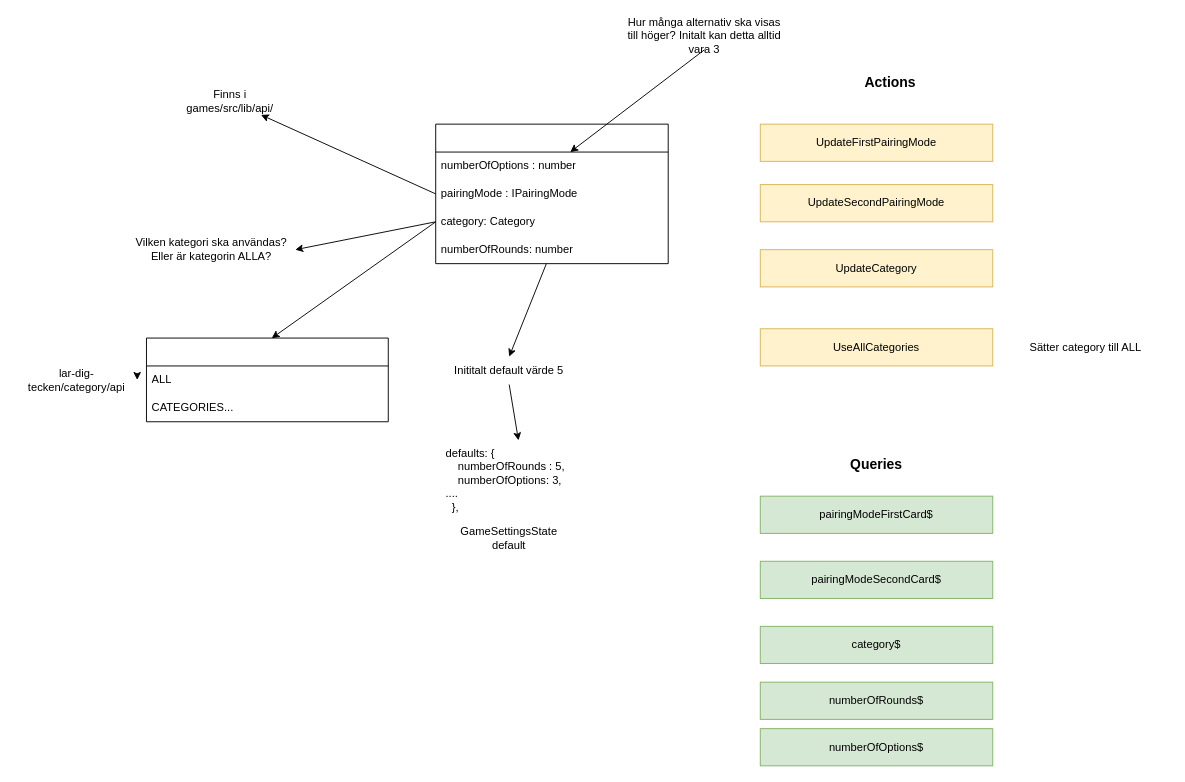
Some shapes in this 1185 by 782 pixel diagram are drawn without their labels. Here are the shapes that lost their labels. From the top down, the box of each, then its label:
(435, 123, 668, 264): IGameSettingStateModel
(146, 337, 388, 422): Category(enum)
